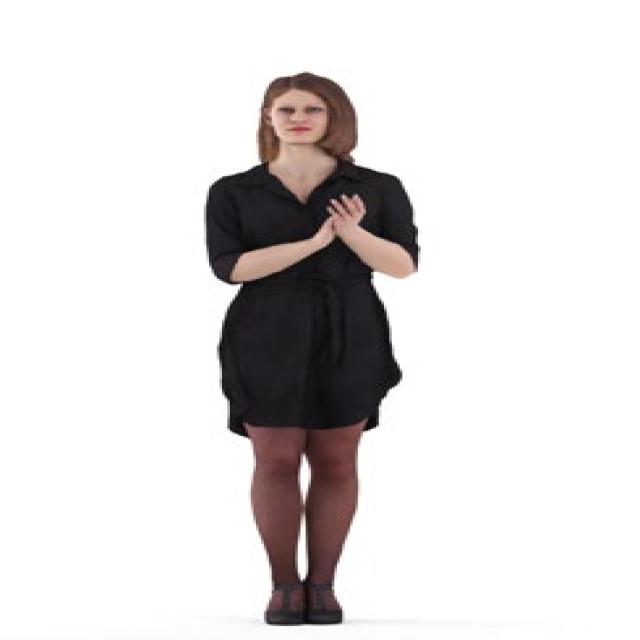standing: (198, 71, 434, 631)
